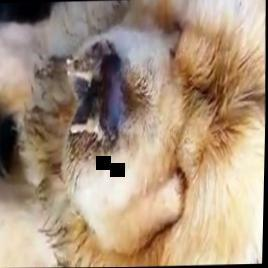nasal_discharge: (63, 53, 131, 143)
